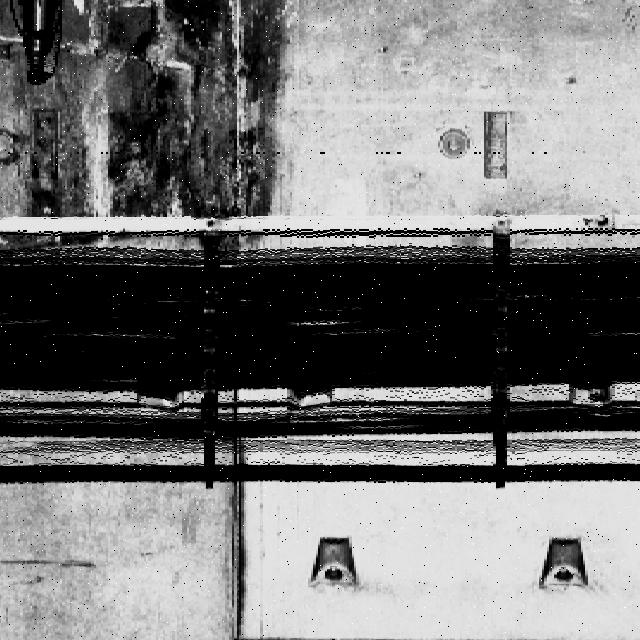leakage: (0, 0, 305, 247)
